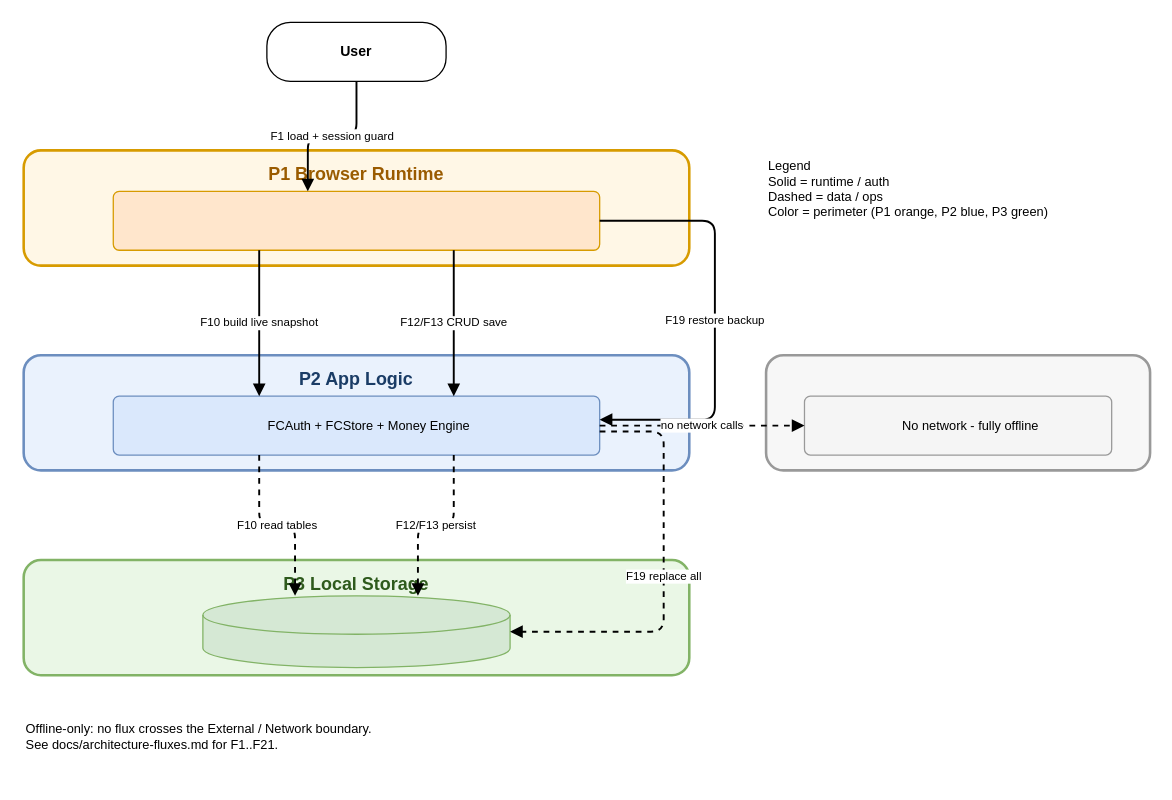
The diagram is 1172 pixels wide and 800 high, and some of its shapes have lost their labels. Each missing label, with the box of its shape:
External / Network: (764, 353, 1151, 471)
localStorage tables: (202, 595, 510, 668)
Pages + Shell + Screens: (112, 190, 600, 250)
